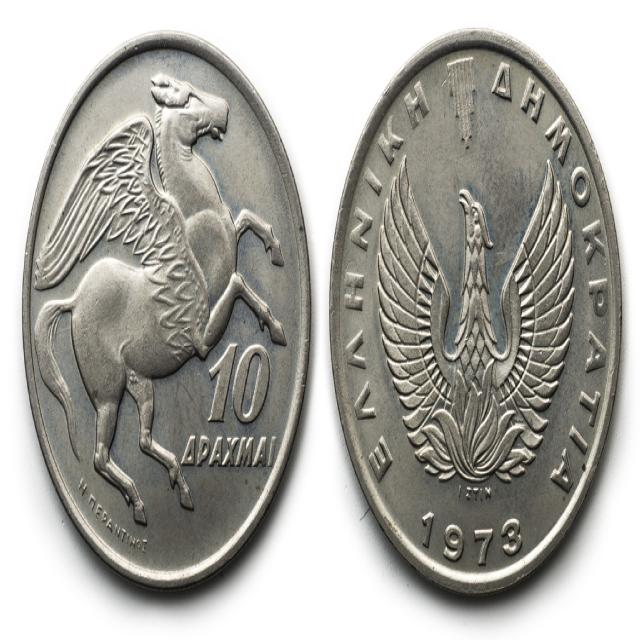Coin: (324, 22, 622, 592), (20, 27, 313, 594)
